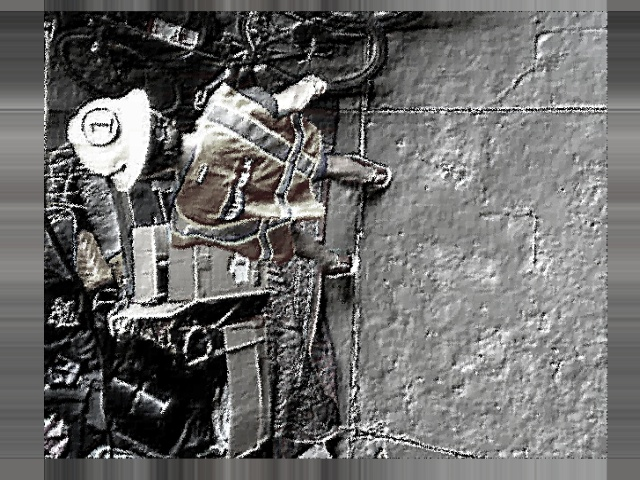one: (80, 107, 116, 144)
